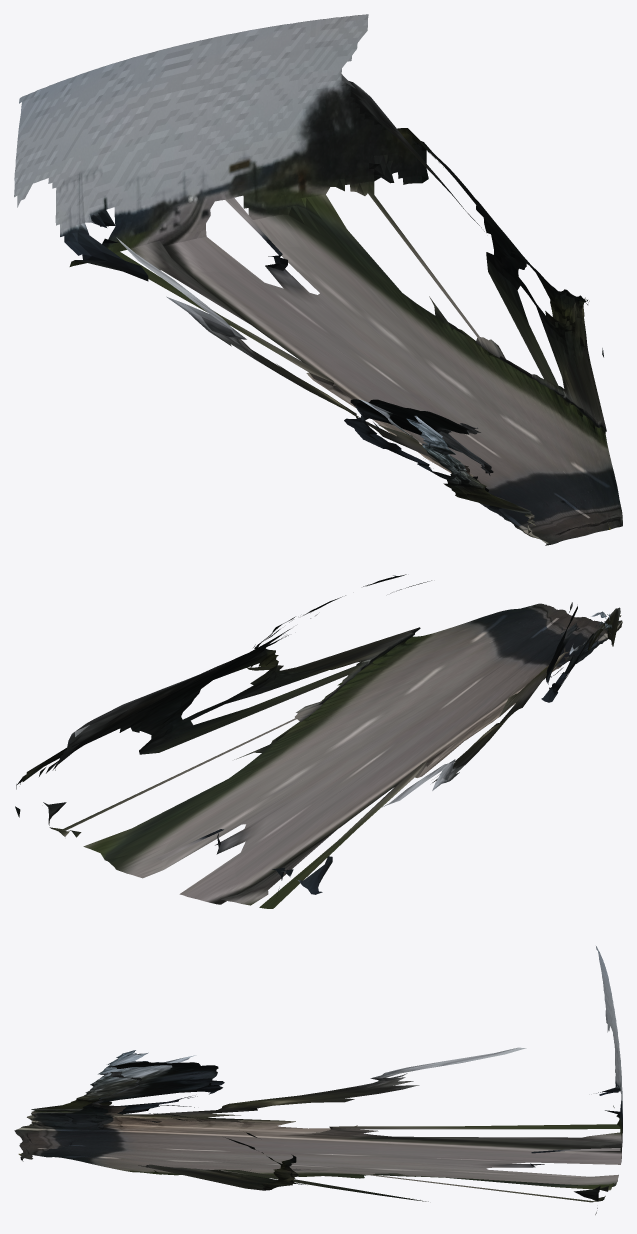
3 renders of one model, top to bottom at view 1: azimuth 30°, elevation 25°; view 2: azimuth 150°, elevation 25°; view 3: azimuth 270°, elevation 25°, orthographic. The views are drawn at different scales.
Visible parts, largest first — view 1: defaultobject; view 2: defaultobject; view 3: defaultobject.
Boxes of the visible parts, box(x1,y1,x2,y2) form: defaultobject: box(14, 14, 622, 545); defaultobject: box(15, 574, 622, 908); defaultobject: box(14, 946, 622, 1214).
Size of the model in its own units: 25.05 by 12.26 by 44.68.
Materials: 1 (1 with a texture image).
